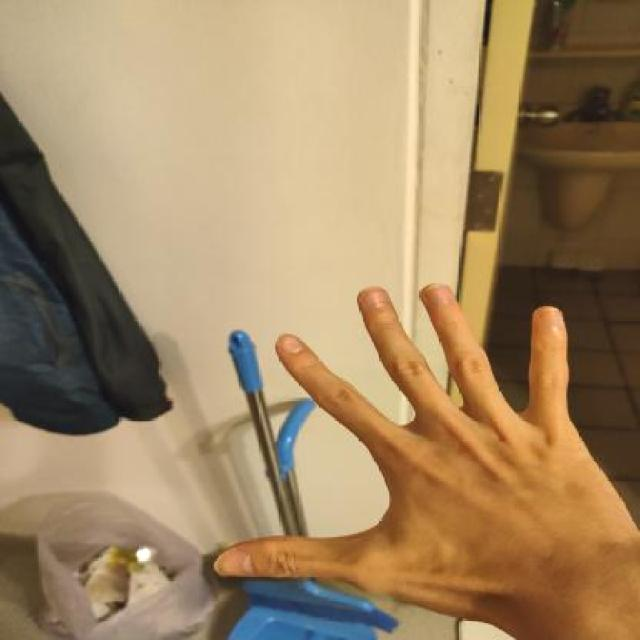no_glove: (197, 272, 640, 638)
